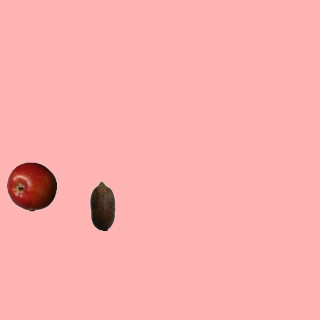Apple Braeburn: (6, 161, 56, 211)
Nut Pecan: (77, 180, 127, 230)
